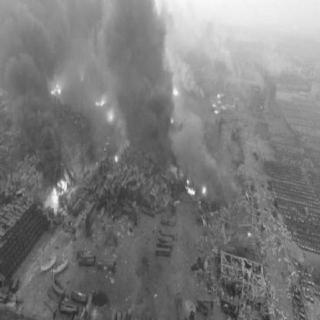Fire: (182, 171, 195, 201)
